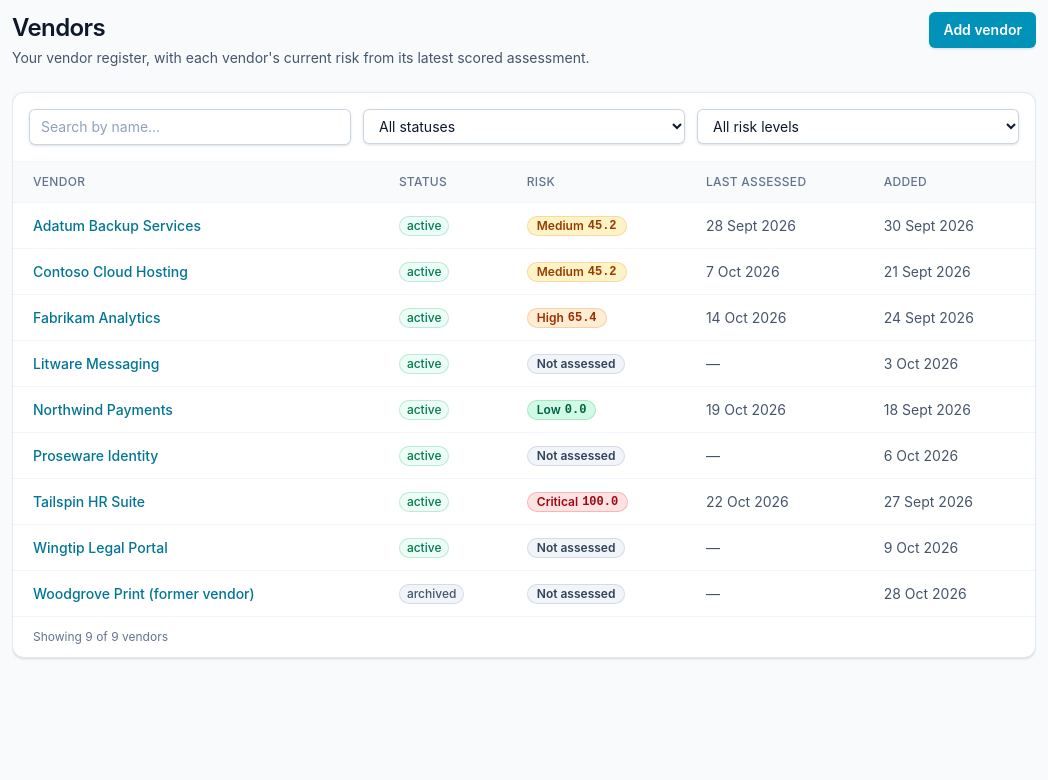
Test: Vendor register › shows an empty-result message with a way to clear the filters
Expected: the link "Northwind Payments" is shown, [33,400,173,418]
Type "zzz" into the search field named "Search vendors" at coordinates (190, 127), box [29,109,351,145]
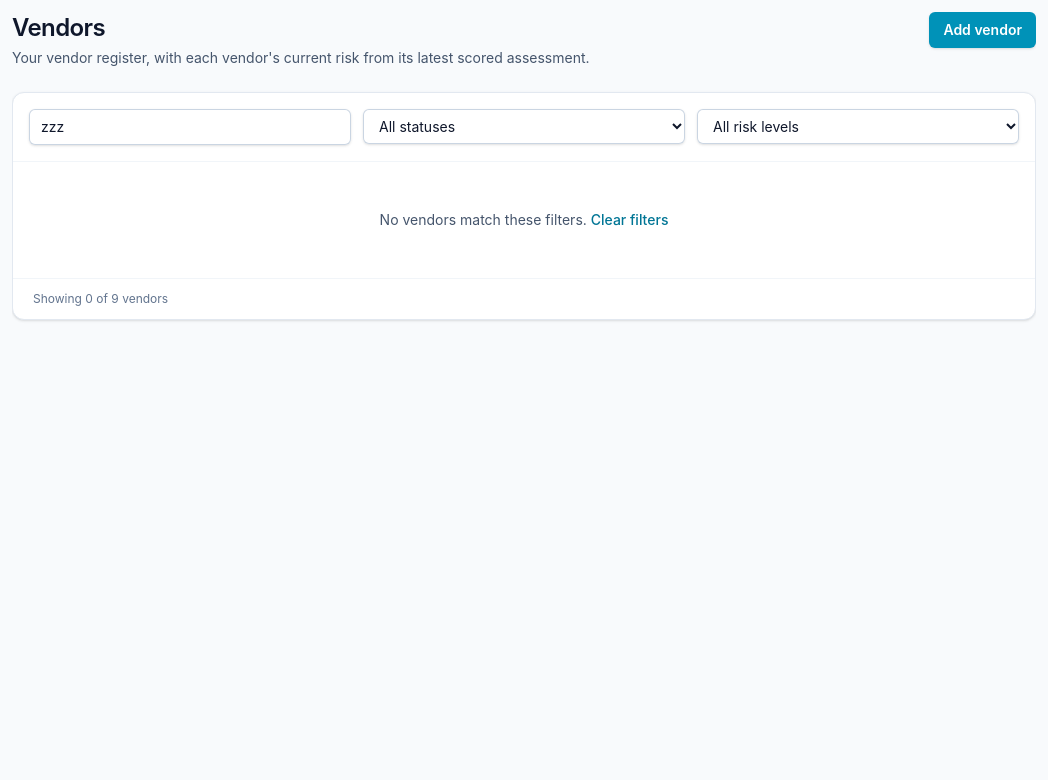
Expected: the text "No vendors match these filters. Clear filters" is shown, [380,210,668,230]
Click the button "Clear filters" at coordinates (630, 220), box [591,210,668,230]
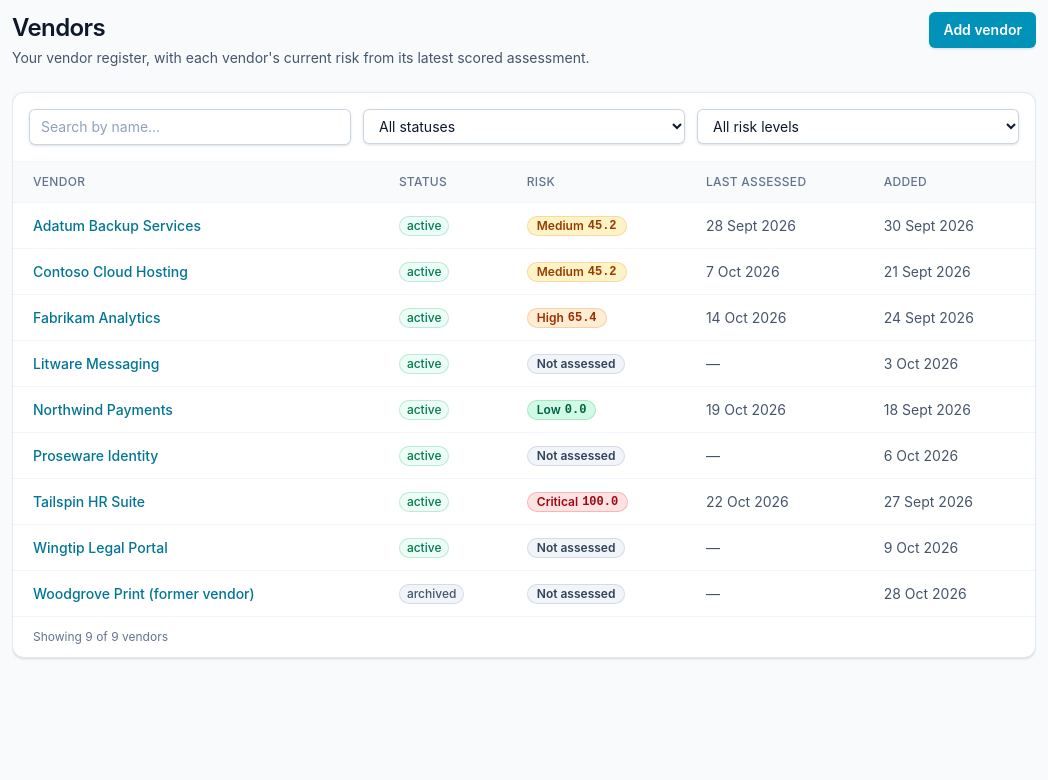
Expected: the link "Northwind Payments" is shown, [33,400,173,418]
